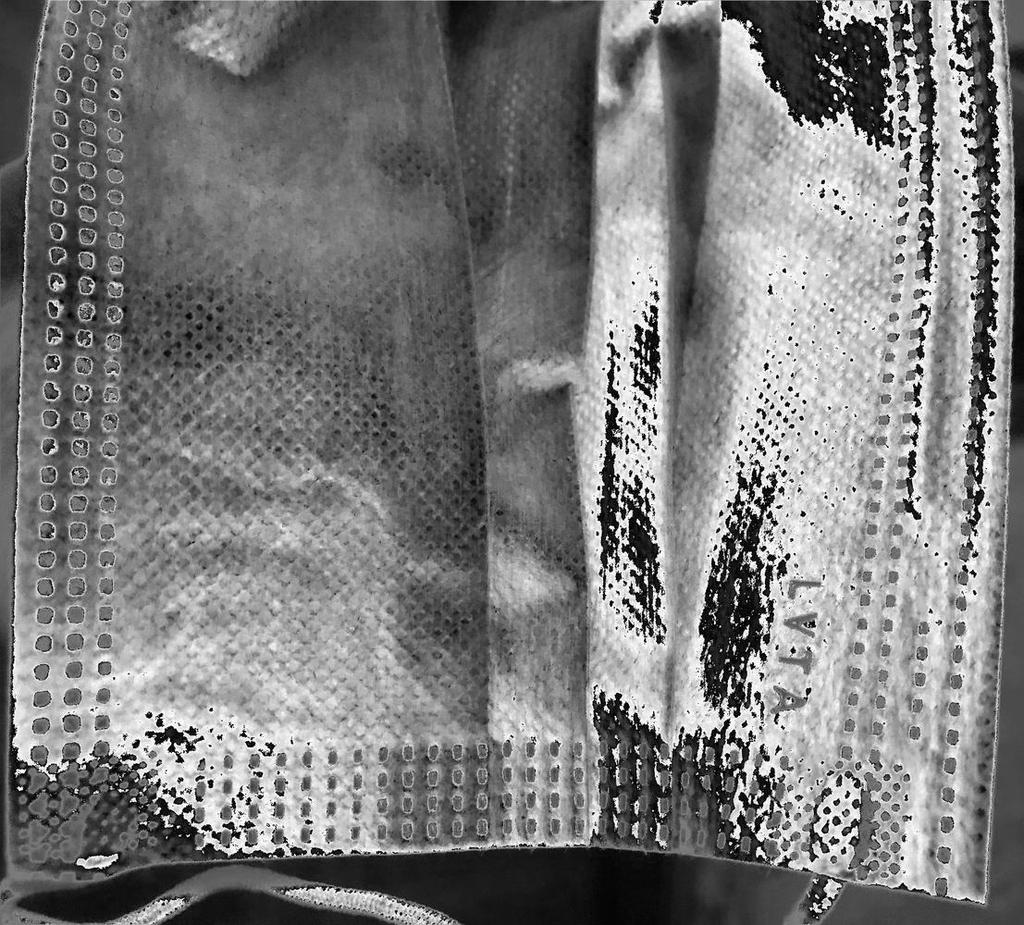High GSM: (9, 11, 1020, 914)
